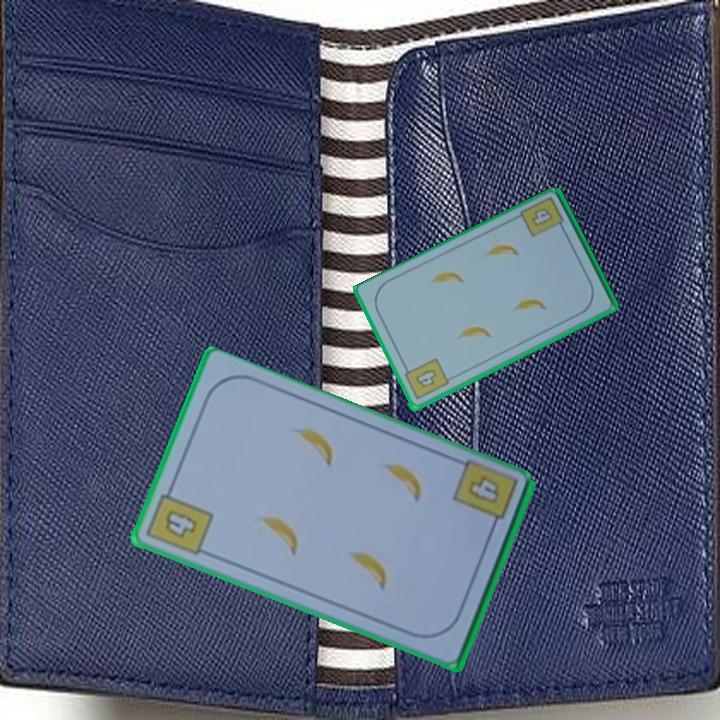4b: (143, 481, 216, 560), (400, 355, 451, 403), (517, 193, 568, 240), (463, 472, 503, 508)
